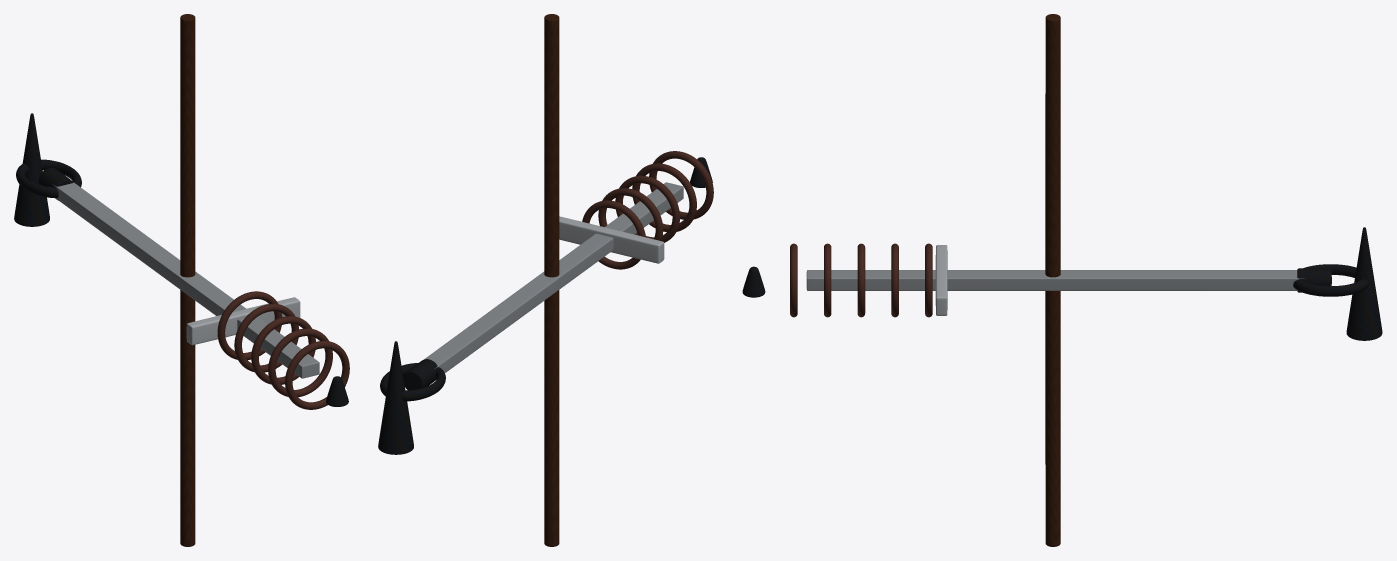
Rendered from reaper_pike.glb.
3 views of the same model, side by side, from view 1: azimuth 30°, elevation 25°; view 2: azimuth 150°, elevation 25°; view 3: azimuth 270°, elevation 25° (orthographic).
Visible parts, largest first — view 1: ReaperPike_Shaft, detail_blade_spine, ReaperPike_Head, detail_weapon_guard, detail_weapon_wrap.001, detail_weapon_wrap, detail_weapon_wrap.004, detail_weapon_wrap.002, detail_weapon_wrap.003, ReaperPike_Hook, ReaperPike_Butt, ReaperPike_Socket; view 2: ReaperPike_Shaft, detail_blade_spine, ReaperPike_Head, detail_weapon_guard, detail_weapon_wrap.001, detail_weapon_wrap, detail_weapon_wrap.004, detail_weapon_wrap.002, detail_weapon_wrap.003, ReaperPike_Hook, ReaperPike_Socket; view 3: detail_blade_spine, ReaperPike_Shaft, ReaperPike_Head, ReaperPike_Hook, detail_weapon_guard.
Part boxes in pixels (x1=…): ReaperPike_Shaft: x1=180, y1=14, x2=195, y2=546; detail_blade_spine: x1=53, y1=182, x2=319, y2=378; ReaperPike_Head: x1=14, y1=113, x2=49, y2=226; detail_weapon_guard: x1=186, y1=297, x2=300, y2=345; detail_weapon_wrap.001: x1=268, y1=328, x2=332, y2=397; detail_weapon_wrap: x1=285, y1=341, x2=349, y2=409; detail_weapon_wrap.004: x1=217, y1=291, x2=282, y2=359; detail_weapon_wrap.002: x1=251, y1=316, x2=315, y2=384; detail_weapon_wrap.003: x1=234, y1=303, x2=299, y2=372; ReaperPike_Hook: x1=16, y1=159, x2=81, y2=197; ReaperPike_Butt: x1=326, y1=376, x2=348, y2=406; ReaperPike_Socket: x1=38, y1=167, x2=73, y2=200; ReaperPike_Shaft: x1=544, y1=14, x2=559, y2=546; detail_blade_spine: x1=424, y1=182, x2=683, y2=379; ReaperPike_Head: x1=378, y1=341, x2=413, y2=454; detail_weapon_guard: x1=559, y1=216, x2=664, y2=263; detail_weapon_wrap.001: x1=632, y1=163, x2=696, y2=231; detail_weapon_wrap: x1=649, y1=151, x2=713, y2=219; detail_weapon_wrap.004: x1=582, y1=200, x2=645, y2=269; detail_weapon_wrap.002: x1=615, y1=175, x2=679, y2=242; detail_weapon_wrap.003: x1=598, y1=188, x2=663, y2=240; ReaperPike_Hook: x1=380, y1=363, x2=445, y2=401; ReaperPike_Socket: x1=403, y1=359, x2=438, y2=390; detail_blade_spine: x1=806, y1=270, x2=1304, y2=290; ReaperPike_Shaft: x1=1045, y1=14, x2=1060, y2=546; ReaperPike_Head: x1=1346, y1=227, x2=1382, y2=340; ReaperPike_Hook: x1=1293, y1=264, x2=1369, y2=296; detail_weapon_guard: x1=935, y1=245, x2=947, y2=315.
Size of the model in its own units: 1.23 by 5.7 by 6.27.
Materials: 8 (2 with a texture image).
